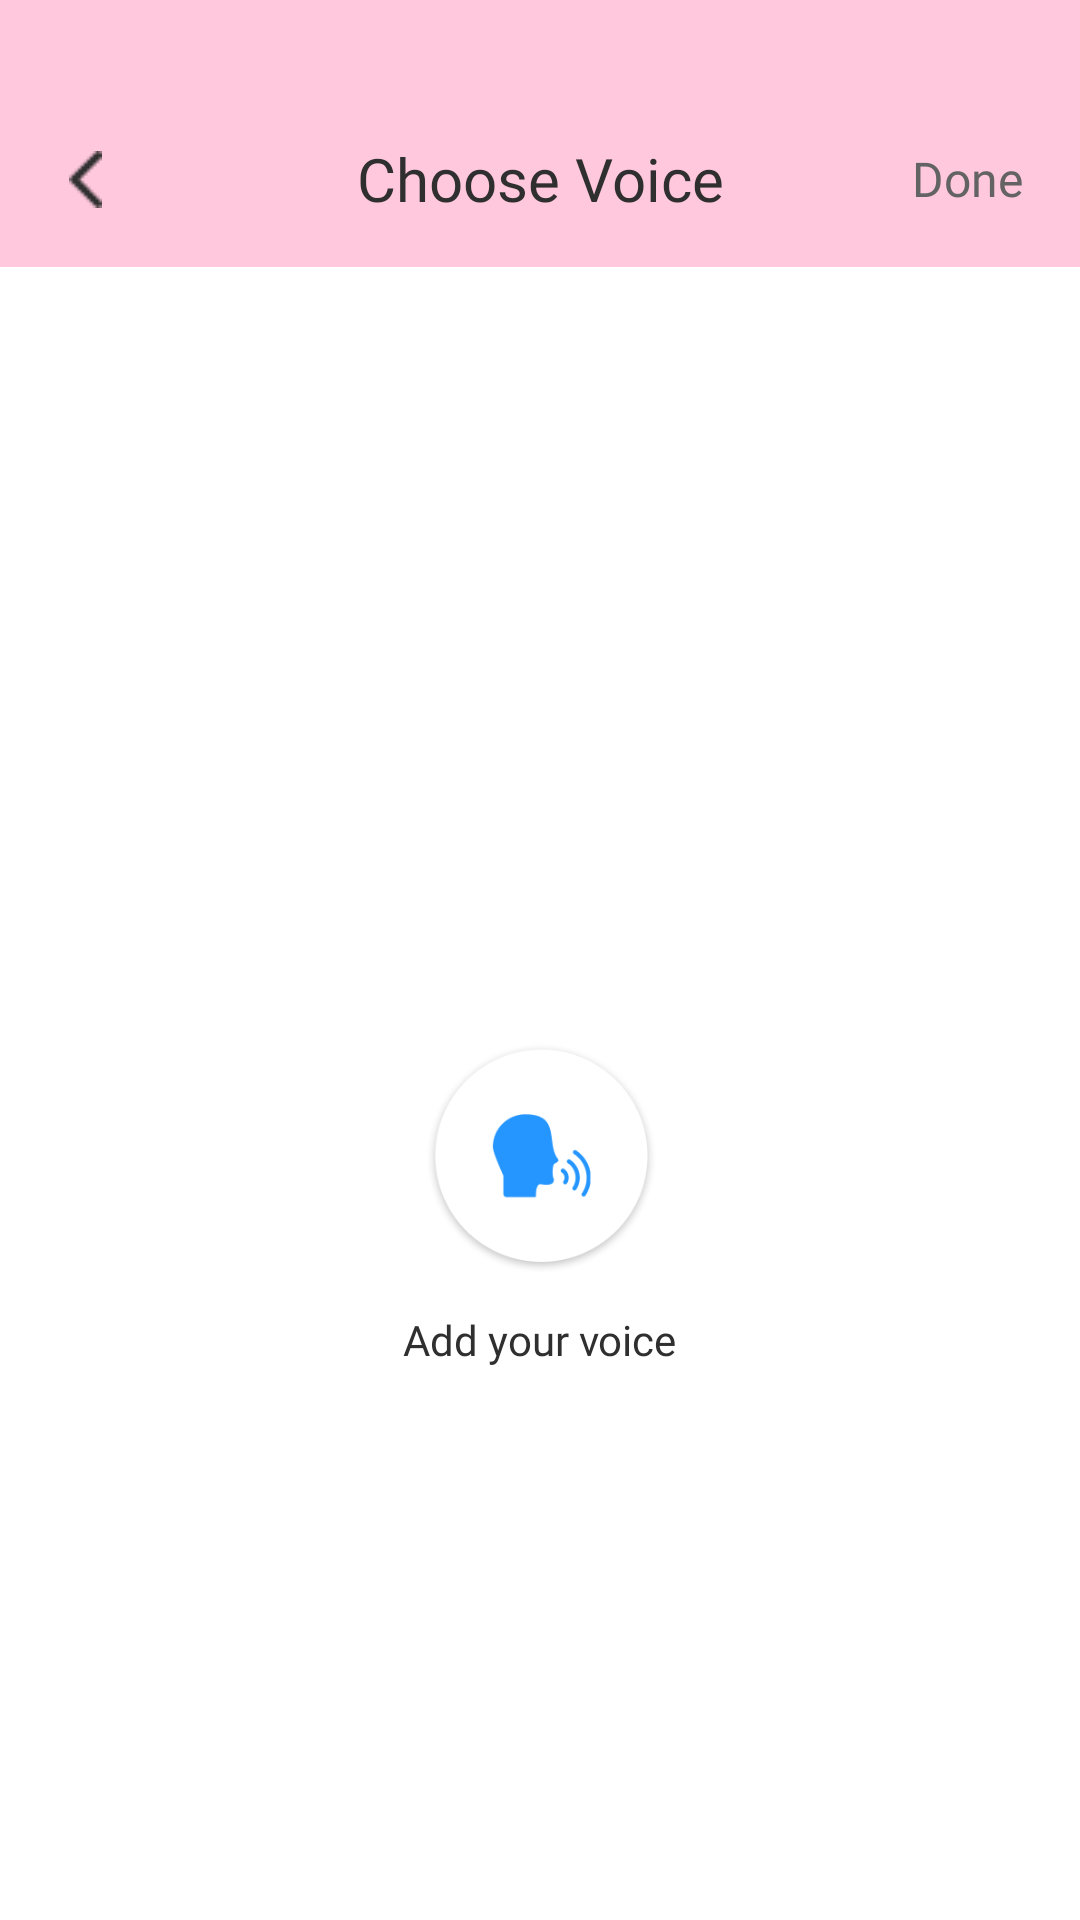

Point at icon controls on the screen. Image size 1080*1920, points as [x,y].
back: [85,179]
